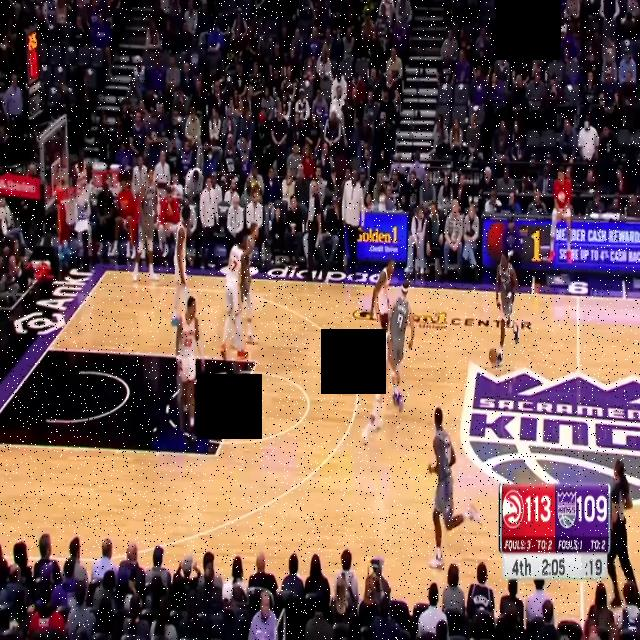Left Bottom Right Paint: (205, 437, 226, 474)
Left Corner: (95, 249, 118, 293)
Left Tick: (375, 263, 393, 310)
Left Top Left Paint: (36, 331, 58, 368)
Left Top Right Paint: (246, 344, 267, 380)
Middle: (567, 228, 588, 365)
